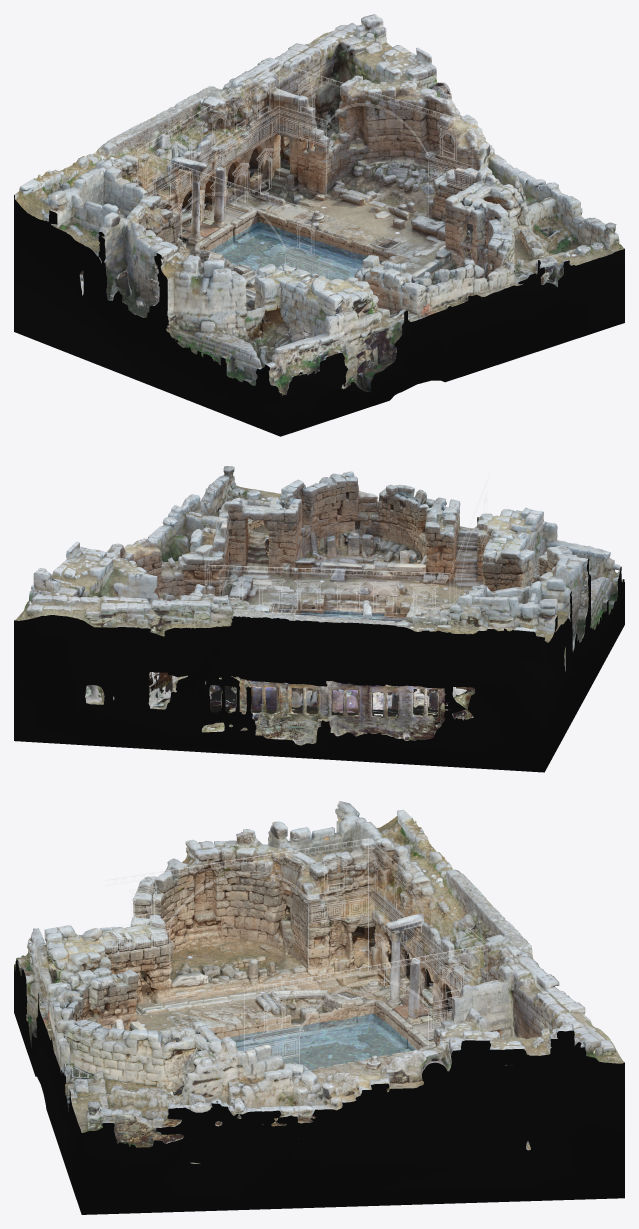
The model's file is peirene_fountain_corinth_greece.glb.
3 renders of one model, top to bottom at view 1: azimuth 30°, elevation 25°; view 2: azimuth 150°, elevation 25°; view 3: azimuth 270°, elevation 25°, orthographic. The views are drawn at different scales.
Parts seen in each view (by area): view 1: Object_5, Object_7, Object_4, Object_8, Object_2, Object_3; view 2: Object_4, Object_5, Object_7, Object_3, Object_8, Object_2; view 3: Object_5, Object_4, Object_7, Object_8, Object_2, Object_3.
Part boxes in pixels (x1=…): Object_5: x1=14, y1=14, x2=624, y2=395; Object_7: x1=15, y1=19, x2=620, y2=392; Object_4: x1=14, y1=195, x2=624, y2=436; Object_8: x1=137, y1=63, x2=472, y2=278; Object_2: x1=211, y1=222, x2=382, y2=280; Object_3: x1=138, y1=63, x2=279, y2=239; Object_4: x1=14, y1=558, x2=624, y2=772; Object_5: x1=25, y1=468, x2=621, y2=745; Object_7: x1=14, y1=466, x2=623, y2=740; Object_3: x1=205, y1=564, x2=450, y2=690; Object_8: x1=205, y1=468, x2=490, y2=603; Object_2: x1=299, y1=611, x2=405, y2=622; Object_5: x1=14, y1=801, x2=615, y2=1163; Object_4: x1=14, y1=958, x2=624, y2=1214; Object_7: x1=19, y1=808, x2=624, y2=1147; Object_8: x1=106, y1=838, x2=487, y2=1063; Object_2: x1=221, y1=1014, x2=415, y2=1071; Object_3: x1=368, y1=839, x2=486, y2=1026.
Size of the model in its own units: 33 by 11.17 by 33.75.
Materials: 6 (5 with a texture image).
